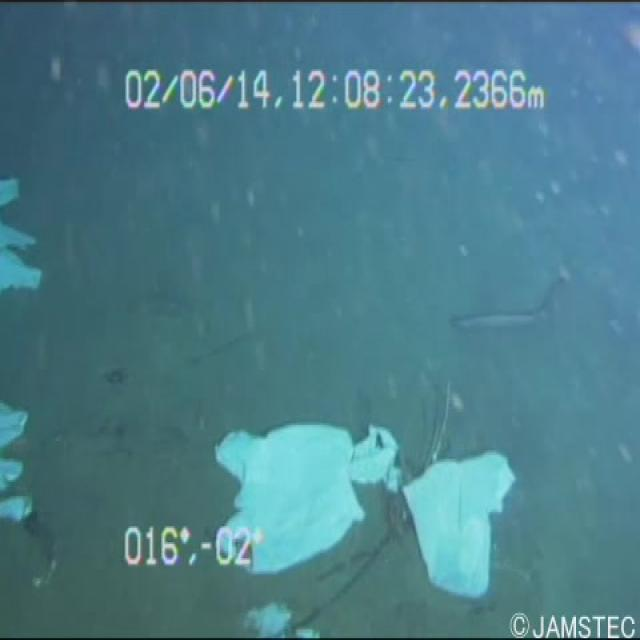plastic: (192, 397, 399, 567), (400, 412, 515, 604), (0, 382, 48, 532), (0, 167, 44, 293)
